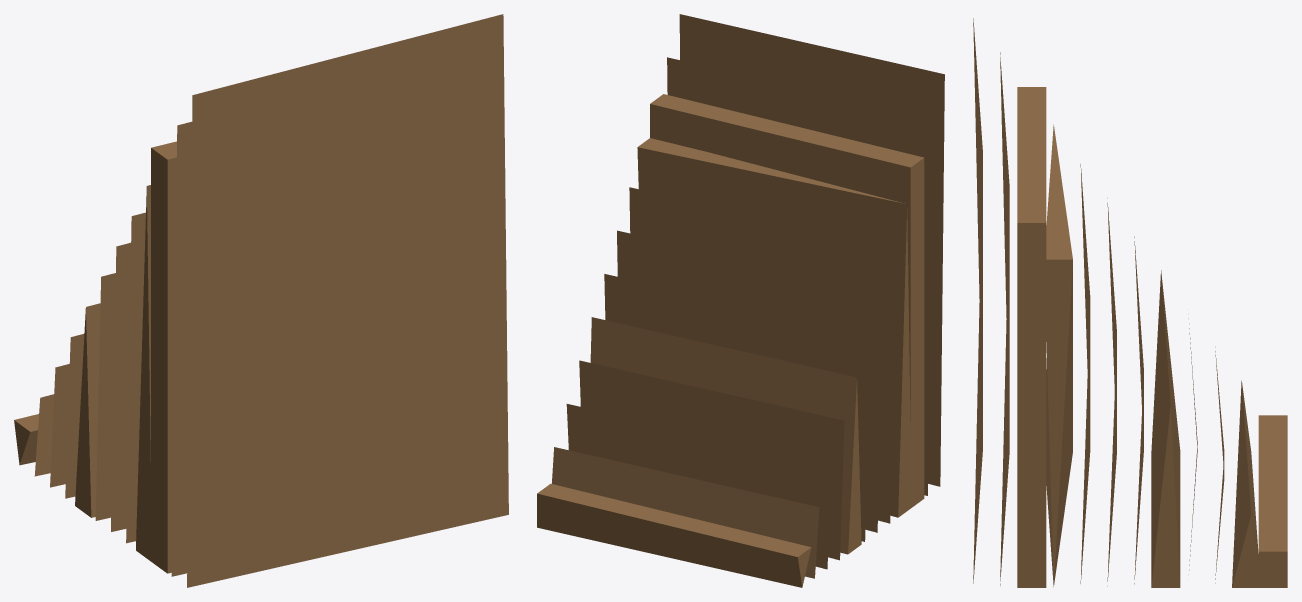
The model's file is harbor-stairs.lod1.glb.
3 renders of one model, left to right at view 1: azimuth 30°, elevation 25°; view 2: azimuth 150°, elevation 25°; view 3: azimuth 270°, elevation 25°, orthographic. The views are drawn at different scales.
Visible parts, largest first — view 1: harbor-stairs__body; view 2: harbor-stairs__body; view 3: harbor-stairs__body.
Boxes of the visible parts, x1,y1,x2,y2 form: harbor-stairs__body: (14,14,508,587); harbor-stairs__body: (537,14,944,587); harbor-stairs__body: (973,18,1287,587).
Size of the model in its own units: 2 by 3 by 1.95.
